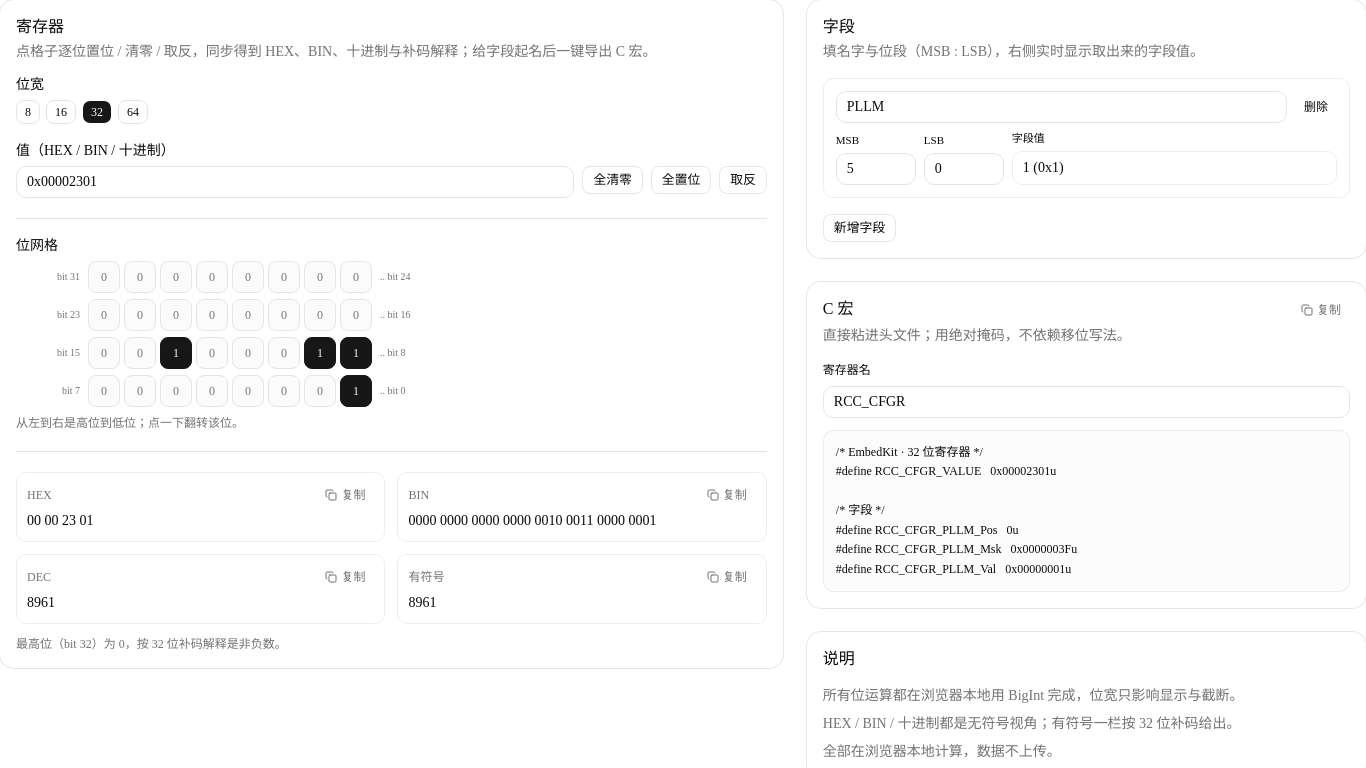
Test: bitfield · 寄存器 › 点一位就翻转该位（bit 0 从 1 变 0 → 0x2300）
What coordinates should you click on to do the following:
click the button titled "bit 0" next to ".. bit 0"
I would click on:
 (356, 391)
Its box is [340,375,372,407].
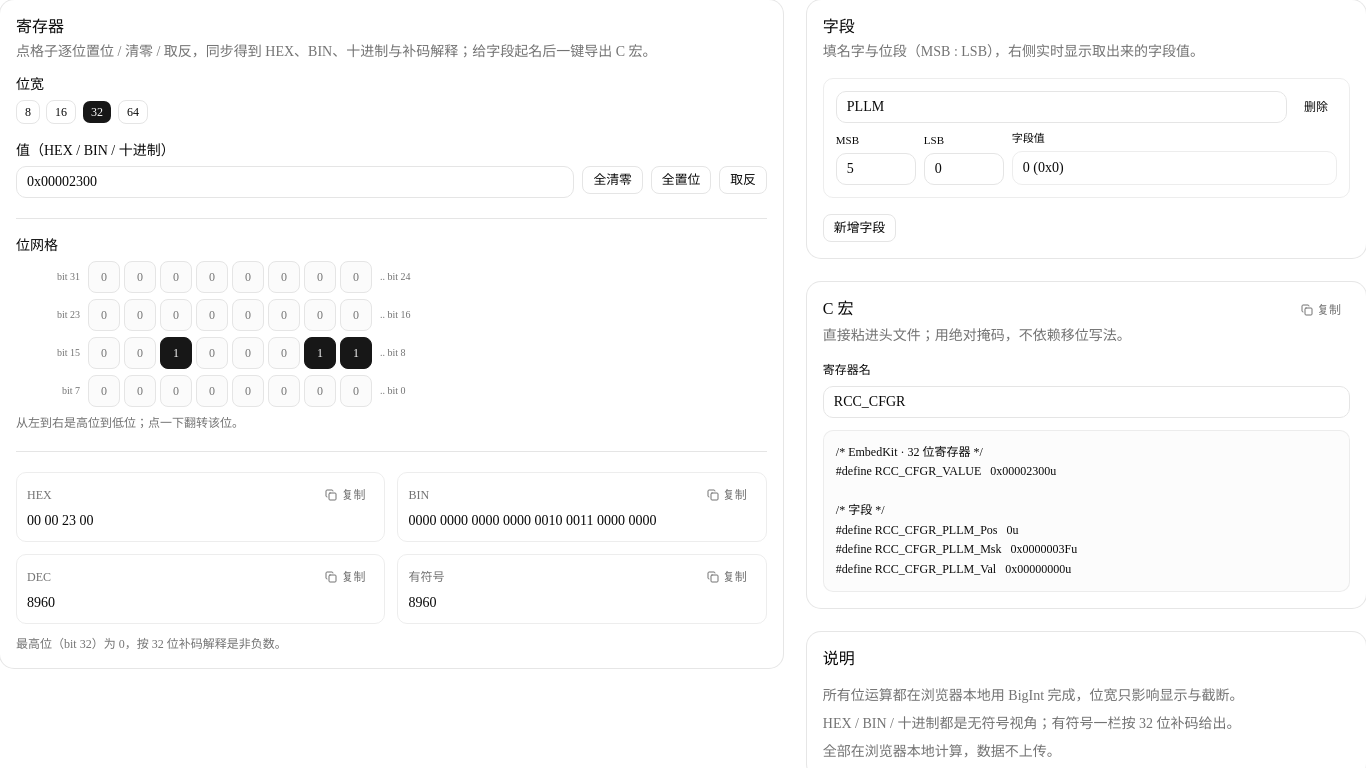
Result: the text "2300" is shown at [836,445,1077,576]
